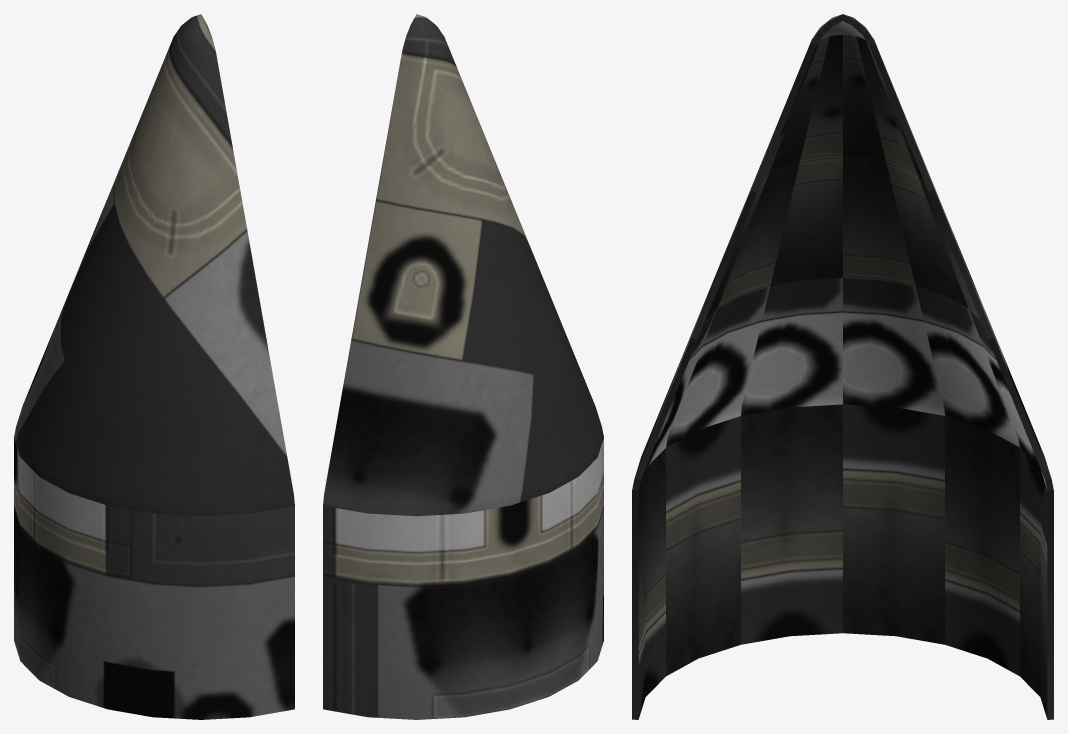
The model's file is fairingcone.obj.
The picture shows the model from 3 angles, left to right: view 1: azimuth 30°, elevation 25°; view 2: azimuth 150°, elevation 25°; view 3: azimuth 270°, elevation 25°; orthographic projection. The views are drawn at different scales.
Visible parts, largest first — view 1: cone; view 2: cone; view 3: cone.
Part boxes in pixels (<box>): cone: <box>14,14,294,719</box>; cone: <box>323,14,603,719</box>; cone: <box>632,14,1053,719</box>.
Size of the model in its own units: 0.8158 by 3 by 1.62.
